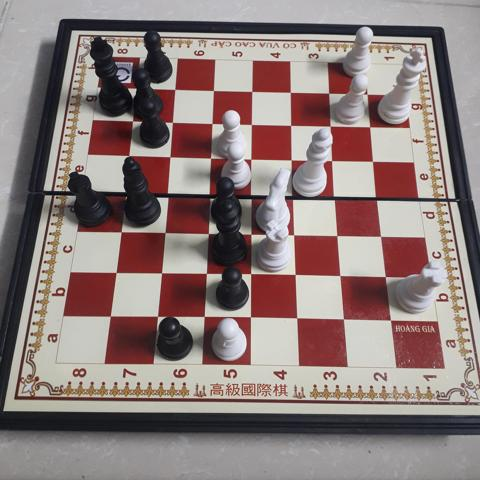xcorner: (291, 310, 308, 326), (291, 266, 307, 283), (335, 267, 352, 283), (333, 226, 349, 243), (376, 227, 393, 243), (206, 149, 222, 166), (207, 115, 224, 131), (327, 118, 344, 134), (104, 308, 120, 324), (151, 308, 167, 324), (198, 309, 214, 325), (245, 309, 261, 325), (338, 310, 354, 326), (384, 311, 400, 327), (109, 264, 125, 280), (155, 264, 171, 280), (200, 265, 216, 281), (246, 266, 262, 282), (380, 268, 396, 284), (114, 223, 130, 239), (158, 223, 174, 239), (202, 224, 218, 240), (246, 225, 262, 241), (290, 226, 306, 242), (118, 184, 134, 200), (161, 185, 177, 201), (204, 186, 220, 202), (247, 187, 263, 203), (289, 187, 305, 203), (331, 188, 347, 204), (373, 189, 389, 205), (123, 148, 139, 164), (164, 149, 180, 165), (247, 150, 263, 166), (288, 151, 304, 167), (329, 152, 345, 168), (370, 153, 386, 169), (127, 113, 143, 129), (167, 114, 183, 130), (248, 116, 264, 132), (288, 117, 304, 133), (367, 119, 383, 135), (130, 81, 146, 97), (170, 82, 186, 98), (209, 83, 225, 99), (248, 84, 264, 100), (287, 85, 303, 101), (326, 86, 342, 102), (364, 87, 380, 103)
